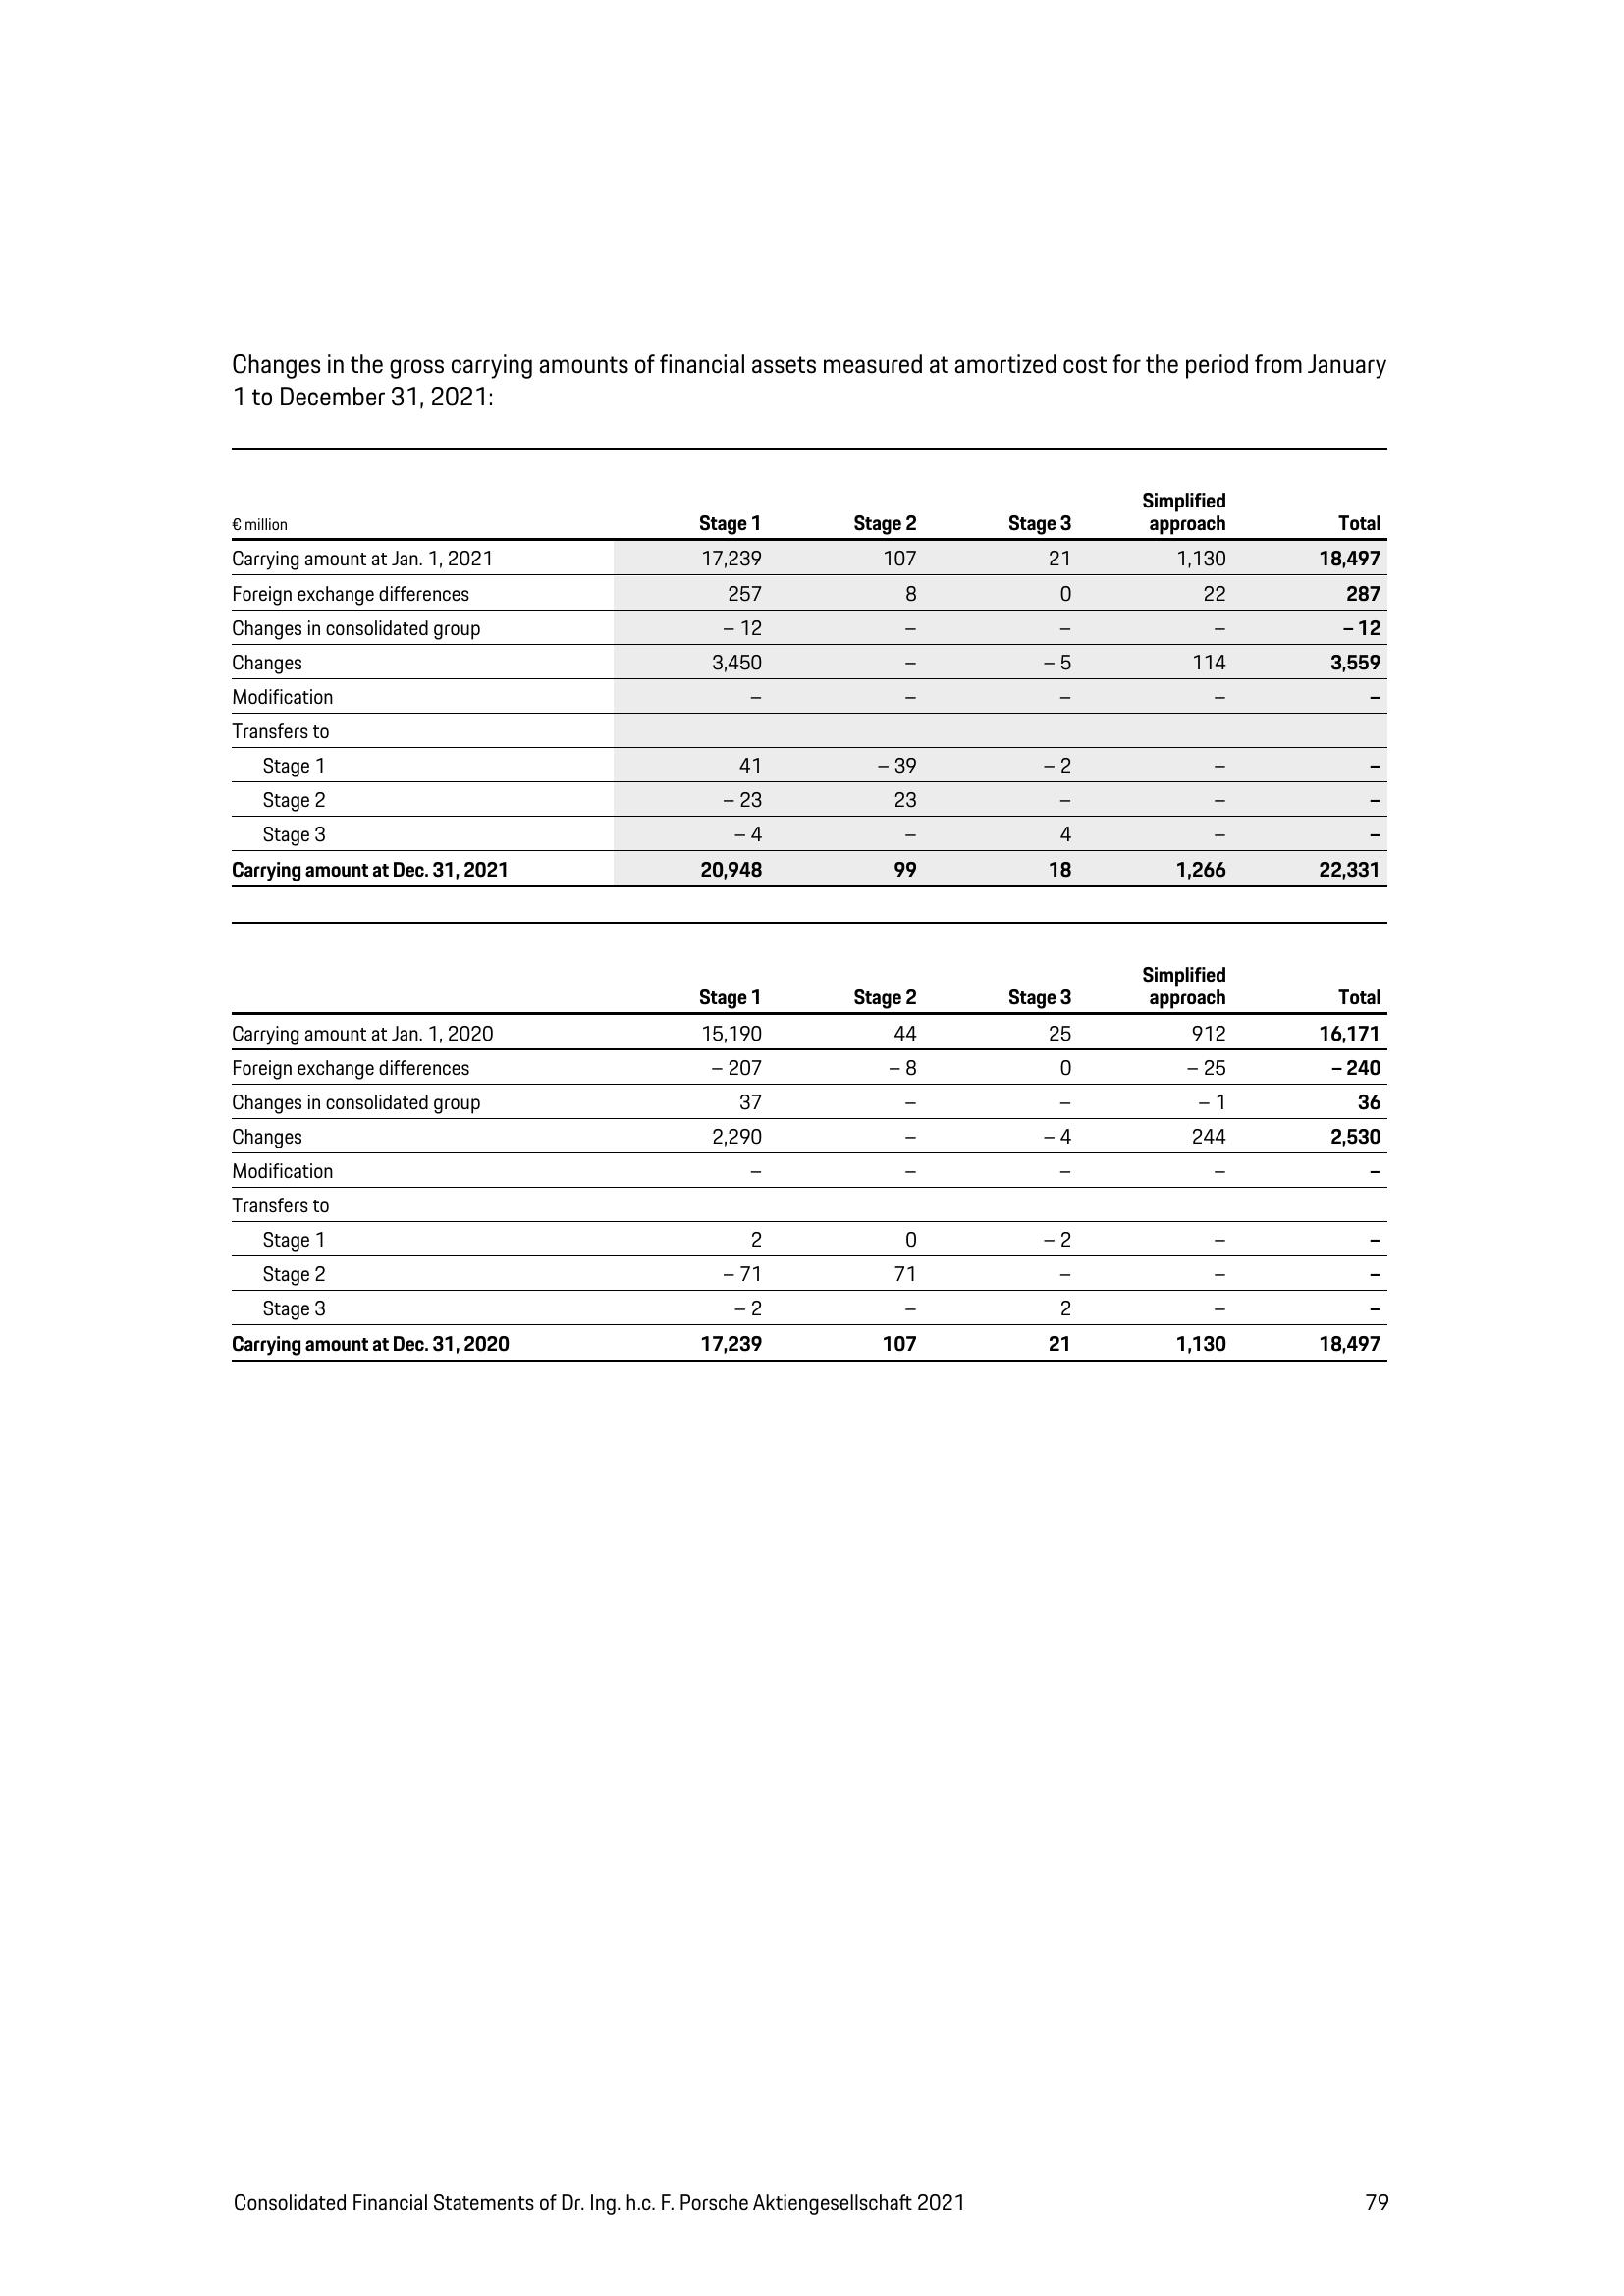Footer: (0, 2134, 1624, 2296)
Header: (0, 0, 1624, 228)
Table: (186, 443, 1403, 917), (181, 945, 1403, 1379)
